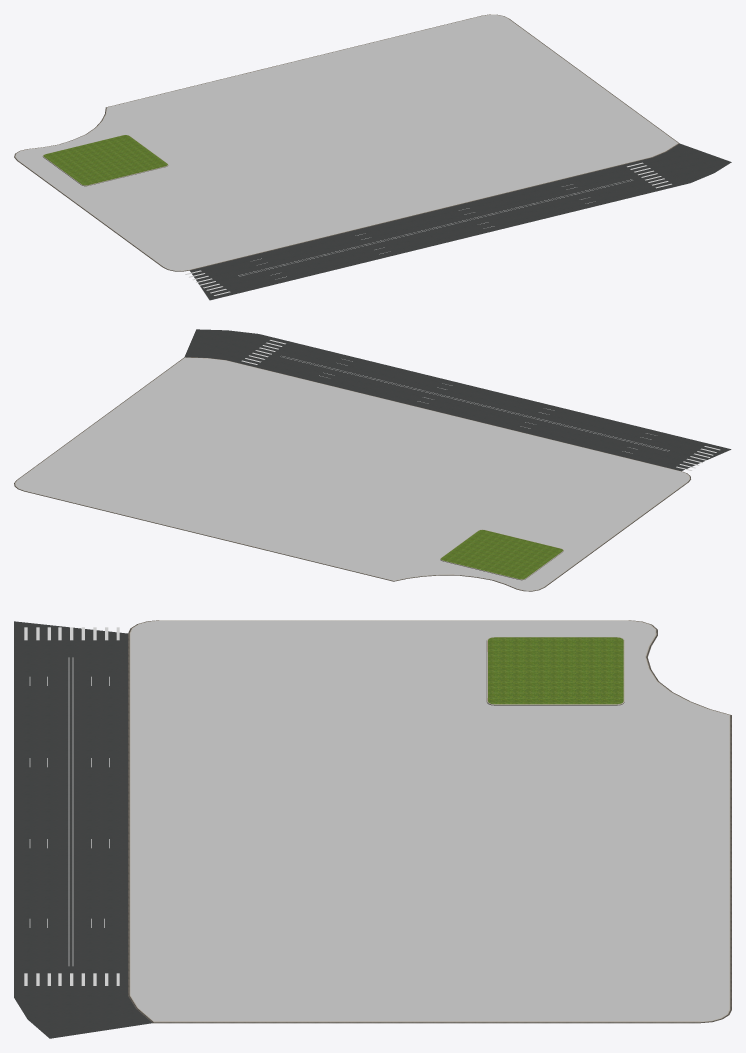
Rendered from New_Terrain_Area_29.fbx.
The picture shows the model from 3 angles, top to bottom: view 1: azimuth 30°, elevation 25°; view 2: azimuth 150°, elevation 25°; view 3: azimuth 270°, elevation 25°; orthographic projection. The views are drawn at different scales.
Parts seen in each view (by area): view 1: Area_29, Road_02, Road_Alpha_63; view 2: Area_29, Road_02, Road_Alpha_63; view 3: Area_29, Road_02, Road_Alpha_63.
Part boxes in pixels (bbox=[...]): Area_29: bbox=[14, 14, 679, 271]; Road_02: bbox=[190, 143, 731, 300]; Road_Alpha_63: bbox=[185, 162, 671, 295]; Area_29: bbox=[14, 357, 690, 591]; Road_02: bbox=[184, 329, 731, 471]; Road_Alpha_63: bbox=[241, 340, 720, 470]; Area_29: bbox=[128, 620, 731, 1023]; Road_02: bbox=[14, 621, 152, 1038]; Road_Alpha_63: bbox=[24, 627, 119, 985].
Bounding box in the file's own units: 15834 × 21.84 × 11477.
